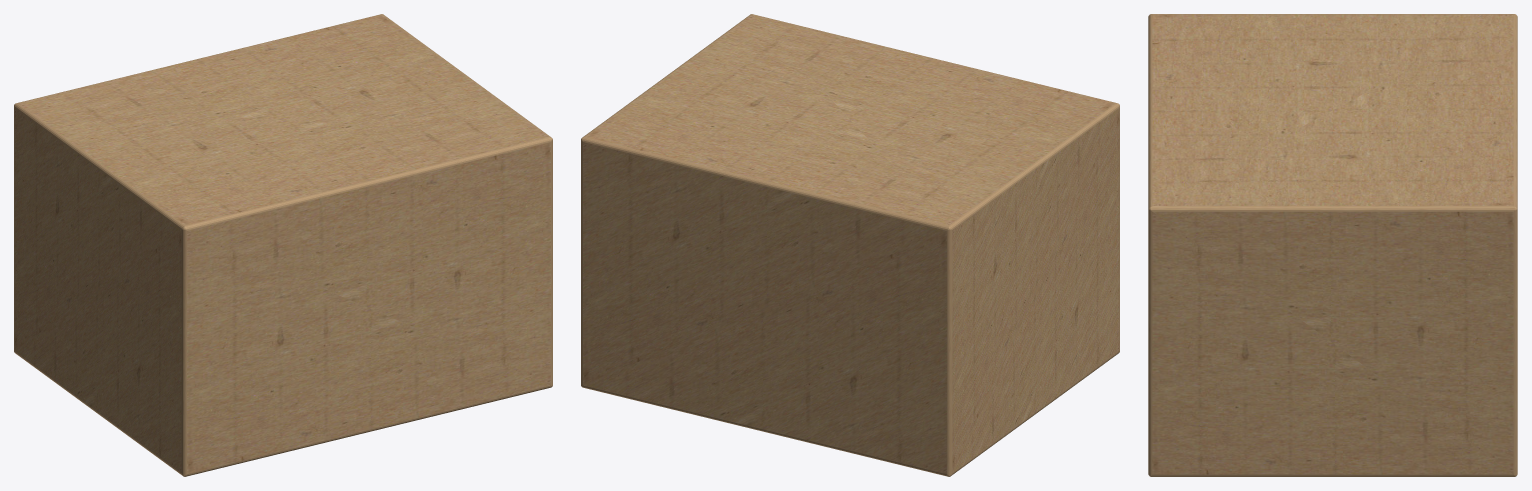
Rendered from scenebox.dae.
3 renders of one model, left to right at view 1: azimuth 30°, elevation 25°; view 2: azimuth 150°, elevation 25°; view 3: azimuth 270°, elevation 25°, orthographic. The views are drawn at different scales.
Visible parts, largest first — view 1: scenebox006; view 2: scenebox006; view 3: scenebox006.
Part boxes in pixels (x1,y1,x2,y2): scenebox006: (14,14,552,476); scenebox006: (581,14,1119,476); scenebox006: (1148,14,1517,476).
Bounding box in the file's own units: 2.57 × 2.06 × 1.66.
